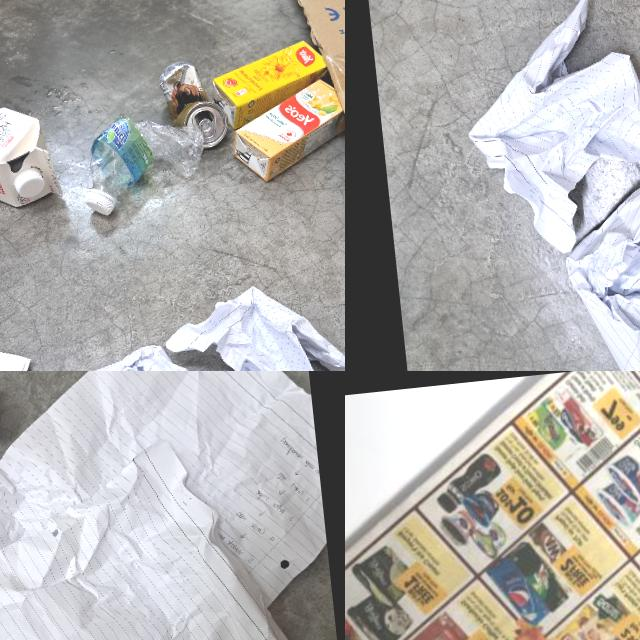aba de lata: (198, 118, 215, 140)
caixinha: (226, 76, 345, 185), (208, 38, 334, 132), (0, 55, 64, 218)
garrafa plástica: (86, 110, 210, 200)
lata: (154, 56, 228, 150)
papel: (0, 371, 345, 640), (345, 371, 640, 640), (455, 0, 640, 260), (553, 145, 640, 371), (160, 276, 345, 371), (41, 337, 251, 371)
papelão: (280, 0, 345, 254)
tampa plástica: (12, 168, 44, 200), (83, 188, 116, 216)
